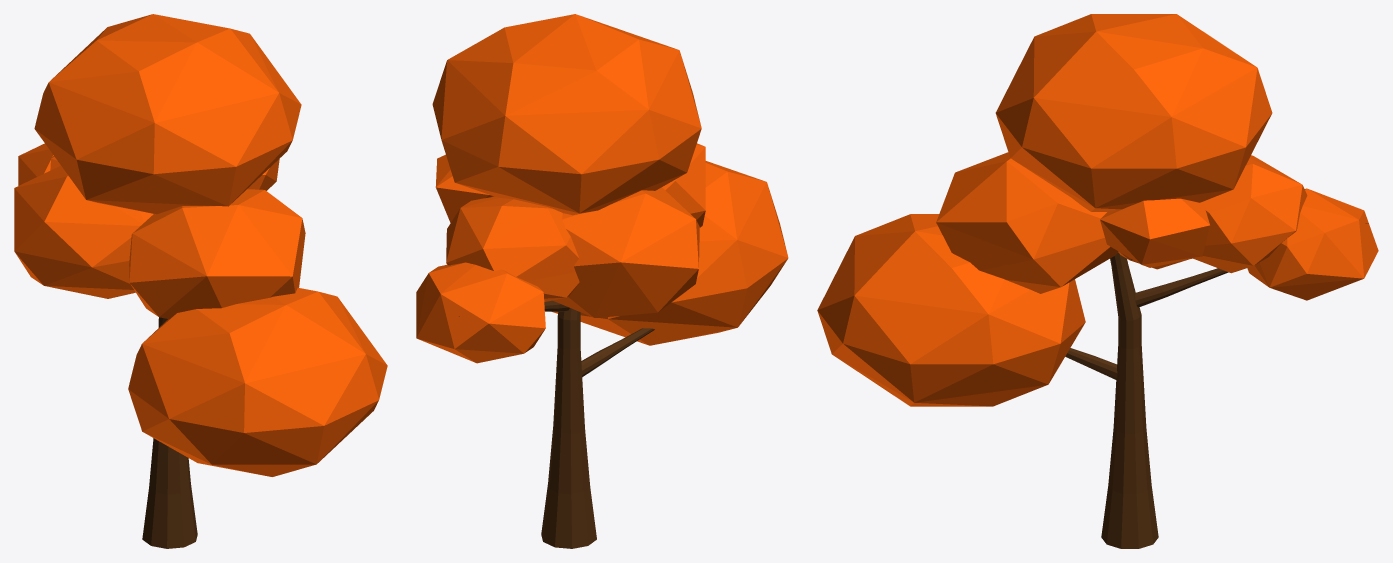
Rendered from Maple_Tree_Tall_002.fbx.
The picture shows the model from 3 angles, left to right: view 1: azimuth 30°, elevation 25°; view 2: azimuth 150°, elevation 25°; view 3: azimuth 270°, elevation 25°; orthographic projection.
Visible parts, largest first — view 1: Maple Tree Tall.002; view 2: Maple Tree Tall.002; view 3: Maple Tree Tall.002.
Boxes of the visible parts, x1,y1,x2,y2 form: Maple Tree Tall.002: [14, 14, 387, 548]; Maple Tree Tall.002: [416, 14, 788, 548]; Maple Tree Tall.002: [817, 14, 1378, 548].
Bounding box in the file's own units: 222 × 406 × 404.
